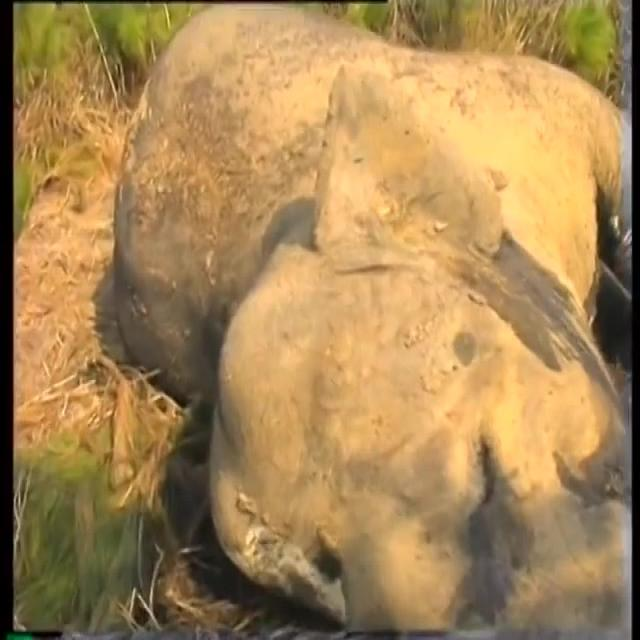Elephant: (135, 35, 625, 626)
